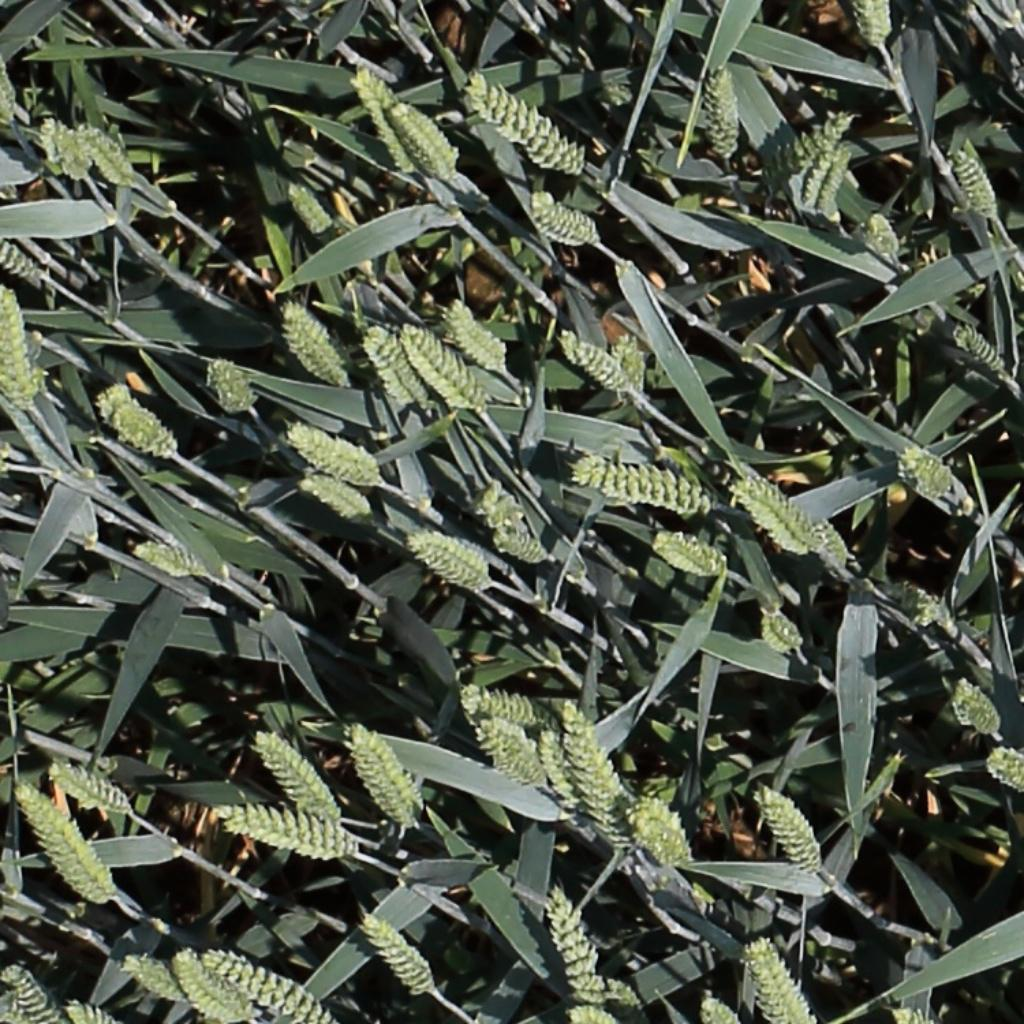0-0: (13, 783, 107, 909), (465, 77, 584, 172), (714, 460, 819, 555), (559, 699, 628, 839), (252, 727, 345, 828), (204, 950, 327, 1019), (402, 323, 487, 412), (345, 724, 415, 831), (352, 72, 419, 180), (765, 106, 860, 182), (755, 785, 827, 880), (547, 883, 603, 1003), (574, 461, 709, 510), (360, 910, 436, 996), (215, 811, 354, 858), (89, 387, 177, 456), (54, 811, 120, 903), (363, 323, 432, 410), (173, 947, 252, 1022), (748, 933, 813, 1024), (279, 303, 349, 386), (741, 481, 820, 554), (387, 99, 461, 176), (445, 293, 510, 374), (288, 425, 376, 483), (581, 966, 665, 1024), (561, 330, 637, 394), (901, 446, 975, 511), (537, 723, 587, 817), (480, 720, 547, 790), (948, 139, 1003, 222), (699, 62, 741, 165), (46, 765, 131, 815), (630, 800, 692, 868), (409, 533, 488, 584), (0, 279, 31, 408), (73, 122, 136, 185), (532, 192, 602, 244), (948, 675, 1003, 740), (812, 135, 856, 215), (6, 962, 61, 1024), (653, 532, 726, 577), (301, 475, 374, 520), (204, 352, 256, 415), (283, 174, 335, 236), (477, 476, 524, 543), (461, 689, 544, 726), (812, 510, 857, 577), (121, 957, 185, 1004), (954, 322, 1008, 375), (899, 582, 953, 635), (133, 543, 211, 578), (865, 204, 907, 266), (614, 326, 649, 397), (760, 607, 808, 656), (0, 230, 42, 281), (36, 106, 64, 169), (857, 0, 890, 53), (496, 532, 551, 563), (985, 753, 1024, 794), (700, 989, 740, 1024), (61, 999, 113, 1024), (569, 1007, 614, 1024)
